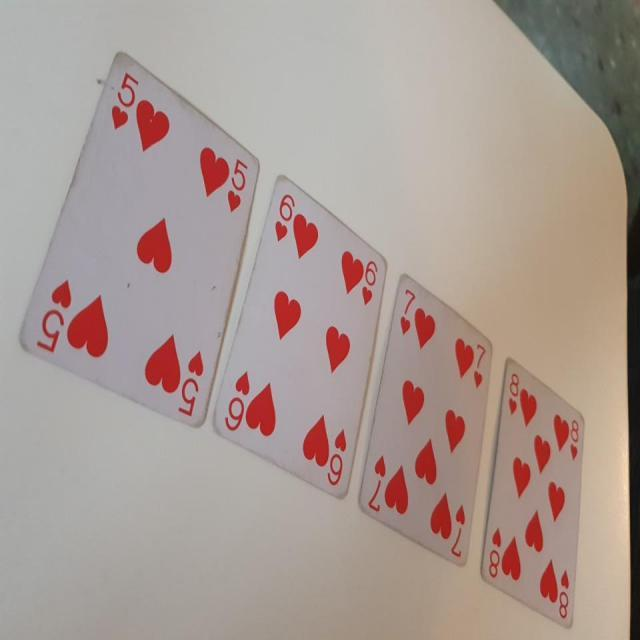5 of hearts: (23, 45, 261, 440)
6 of hearts: (206, 160, 390, 505)
7 of hearts: (356, 272, 498, 562)
8 of hearts: (469, 353, 587, 633)
